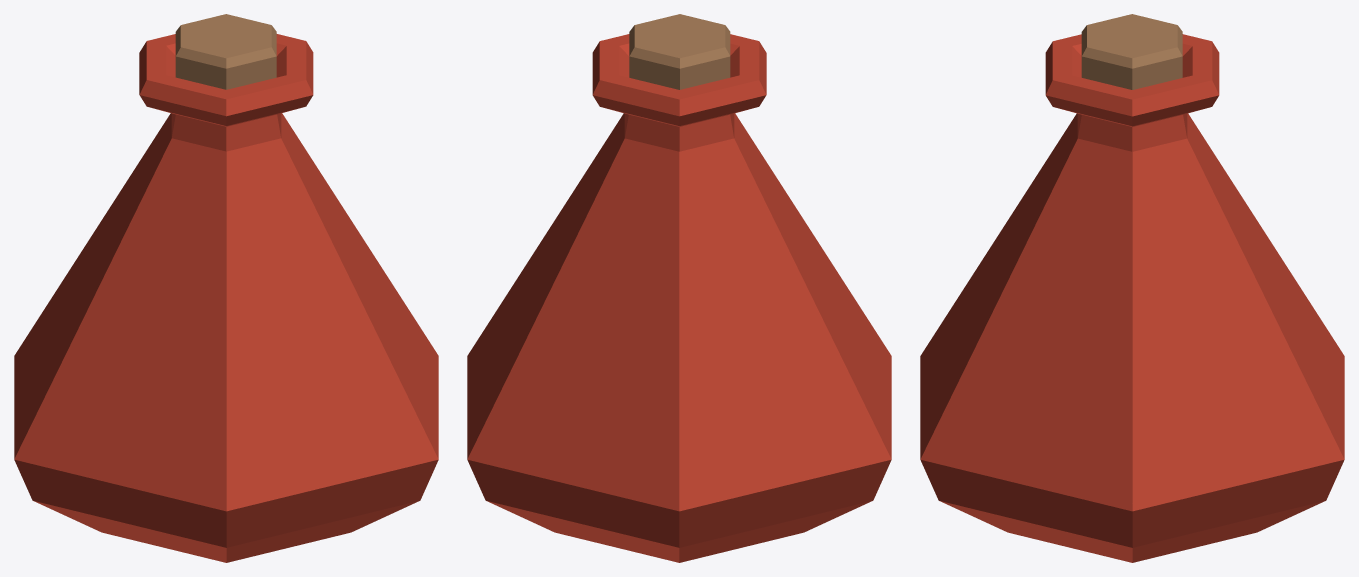
Rendered from potion_6.glb.
The picture shows the model from 3 angles, left to right: view 1: azimuth 30°, elevation 25°; view 2: azimuth 150°, elevation 25°; view 3: azimuth 270°, elevation 25°; orthographic projection.
Parts seen in each view (by area): view 1: potion_6; view 2: potion_6; view 3: potion_6.
Boxes of the visible parts, <box> form: potion_6: <box>14,14,438,562</box>; potion_6: <box>467,14,891,562</box>; potion_6: <box>920,14,1344,562</box>.
Bounding box in the file's own units: 0.2022 × 0.2121 × 0.1751.
2 materials, 2 textured.
